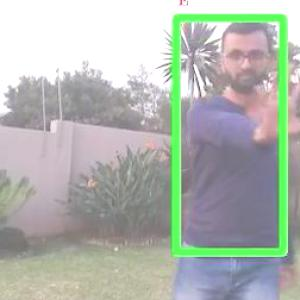follow_hand: (262, 59, 299, 140)
